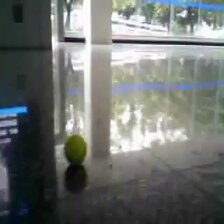tennis: (64, 135, 88, 162)
